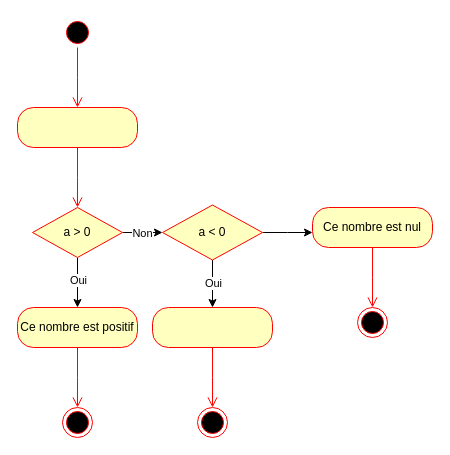
Image size: 450x455. Some labels were removed from this diagram. Each missing label, with the centre of its shape:
Ce nombre est négatif: point (212, 327)
inscrire a: point (77, 127)
